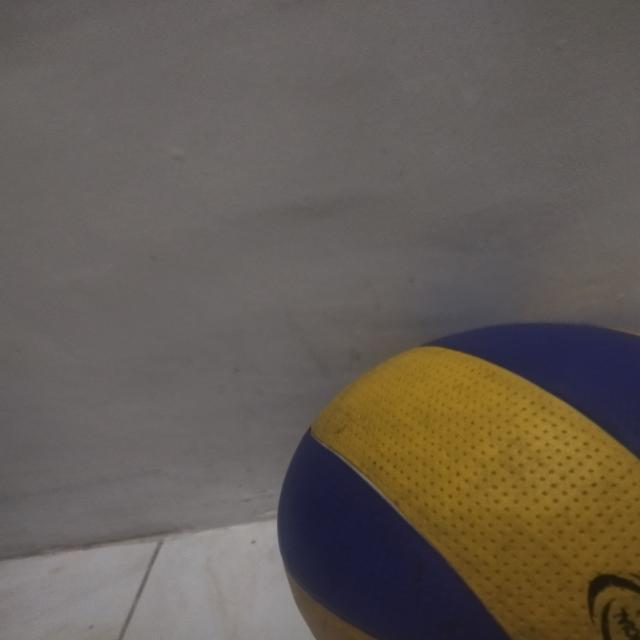volleyball: (277, 322, 639, 639)
